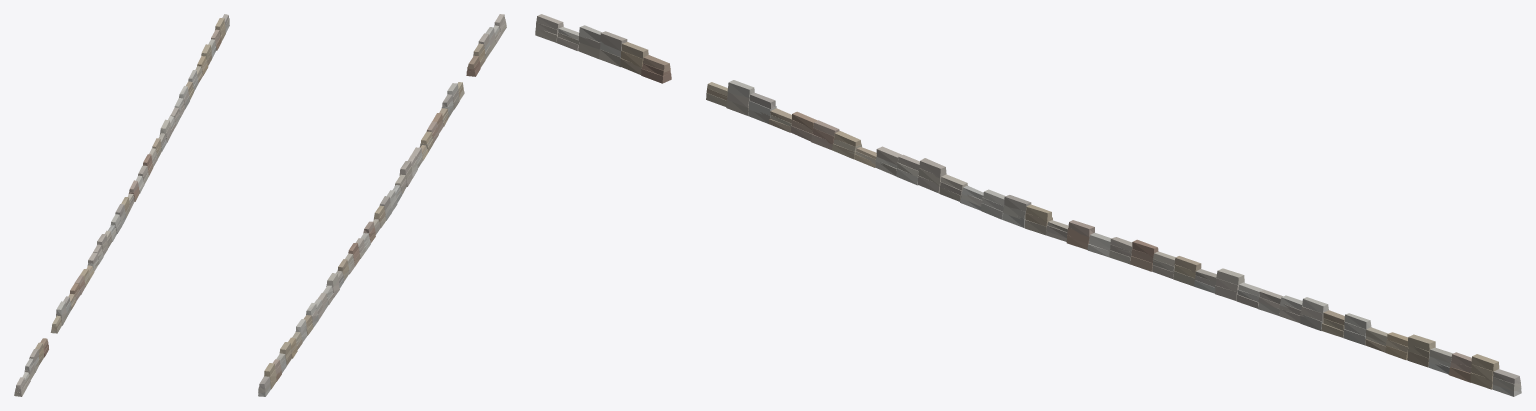
File: farm_6_-5_mid.glb
3 views of the same model, side by side, from view 1: azimuth 30°, elevation 25°; view 2: azimuth 210°, elevation 25°; view 3: azimuth 270°, elevation 25° (orthographic). The views are drawn at different scales.
Parts seen in each view (by area): view 1: geometry_0; view 2: geometry_0; view 3: geometry_0.
Part boxes in pixels (bbox=[...]): geometry_0: bbox=[14, 14, 229, 396]; geometry_0: bbox=[258, 14, 506, 396]; geometry_0: bbox=[535, 14, 1521, 396].
Size of the model in its own units: 51.22 by 3.81 by 52.47.
